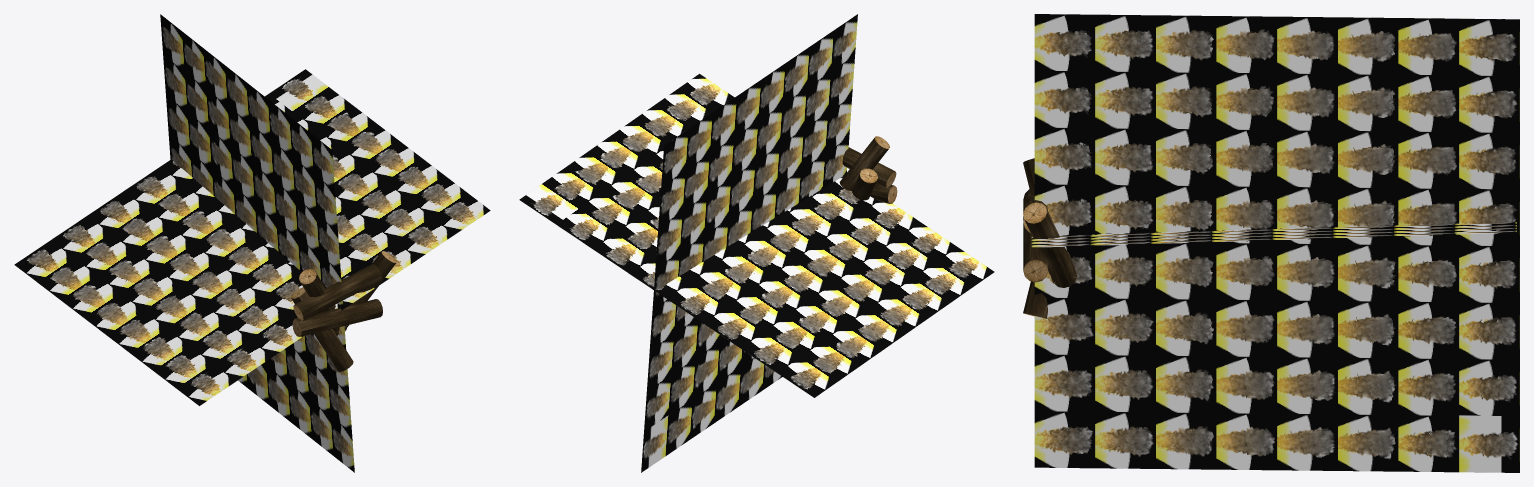
File: campfire.dae
3 renders of one model, left to right at view 1: azimuth 30°, elevation 25°; view 2: azimuth 150°, elevation 25°; view 3: azimuth 270°, elevation 25°, orthographic. The views are drawn at different scales.
Parts seen in each view (by area): view 1: campfire; view 2: campfire; view 3: campfire.
Part boxes in pixels (<box>): campfire: <box>14,14,490,472</box>; campfire: <box>519,14,994,472</box>; campfire: <box>1023,14,1519,472</box>.
Bounding box in the file's own units: 1.87 × 2.04 × 1.99.
